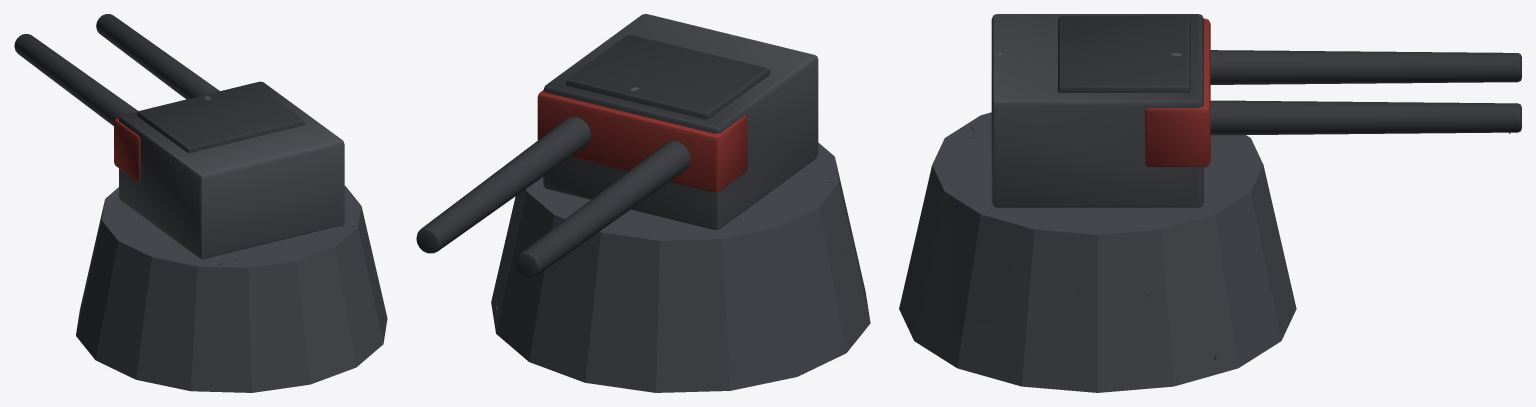
The model's file is turret.glb.
3 views of the same model, side by side, from view 1: azimuth 30°, elevation 25°; view 2: azimuth 150°, elevation 25°; view 3: azimuth 270°, elevation 25° (orthographic). The views are drawn at different scales.
Parts seen in each view (by area): view 1: TurretBase, TurretYoke, TurretBarrels; view 2: TurretBase, TurretYoke, TurretBarrels; view 3: TurretBase, TurretYoke, TurretBarrels.
Part boxes in pixels (x1,y1,x2,y2): TurretBase: [76, 185, 387, 392]; TurretYoke: [114, 81, 344, 258]; TurretBarrels: [14, 14, 304, 152]; TurretBase: [491, 142, 870, 392]; TurretYoke: [537, 14, 818, 229]; TurretBarrels: [416, 35, 770, 277]; TurretBase: [899, 112, 1296, 392]; TurretYoke: [991, 14, 1210, 207]; TurretBarrels: [1058, 16, 1521, 135].
Bounding box in the file's own units: 3 × 2.21 × 4.7.
